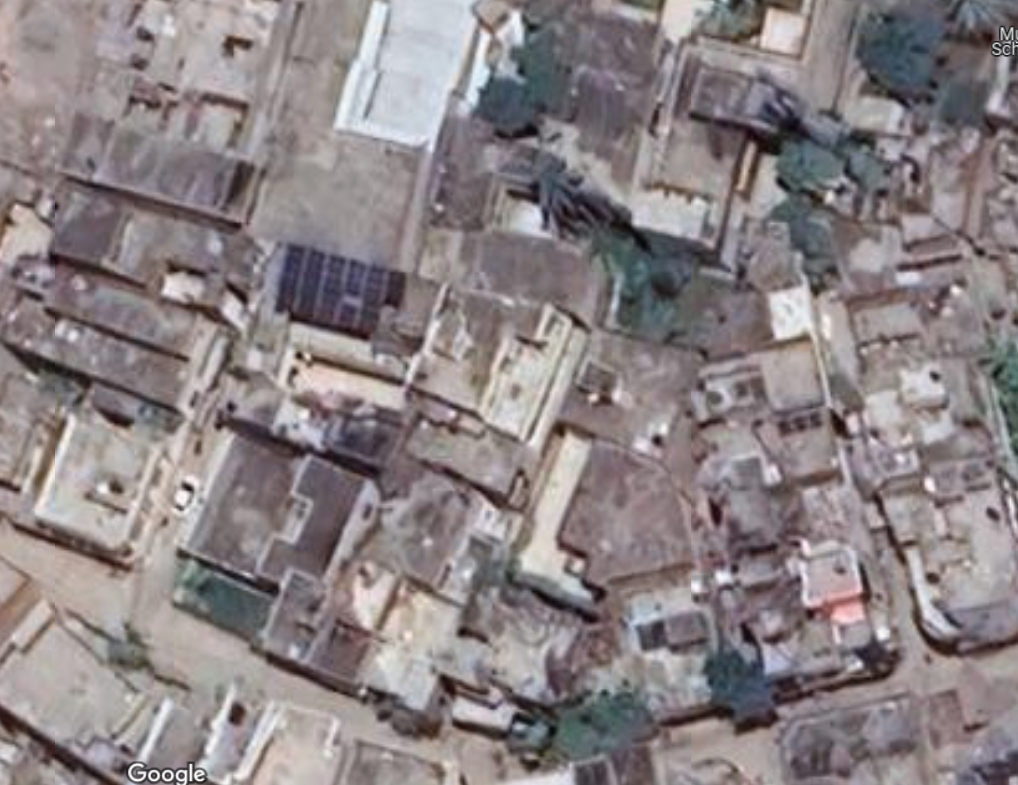solar-panel: (271, 237, 400, 330)
